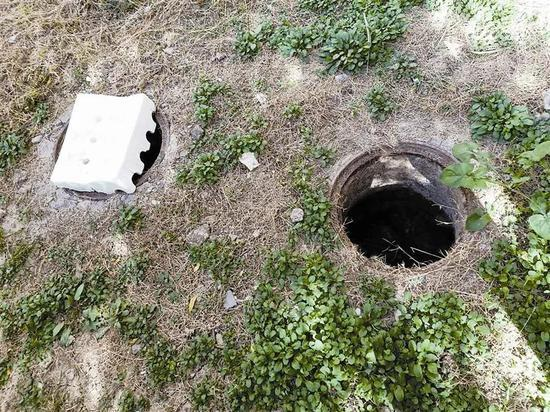lose: (317, 128, 505, 296)
